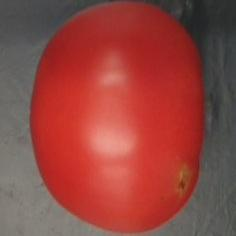unripe: (26, 0, 211, 236)
